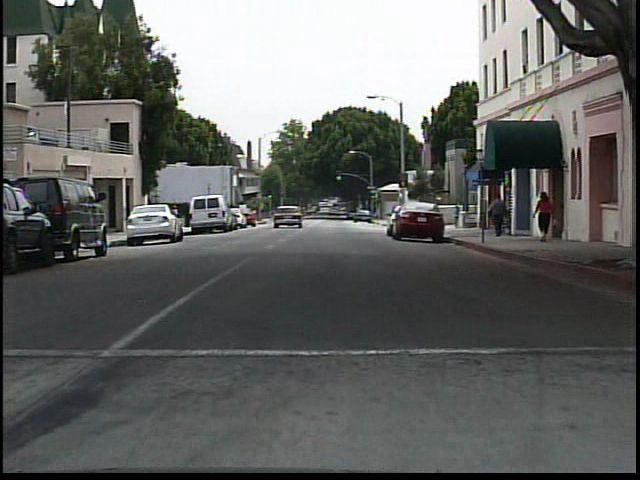person: (534, 187, 557, 245), (485, 193, 509, 240)
